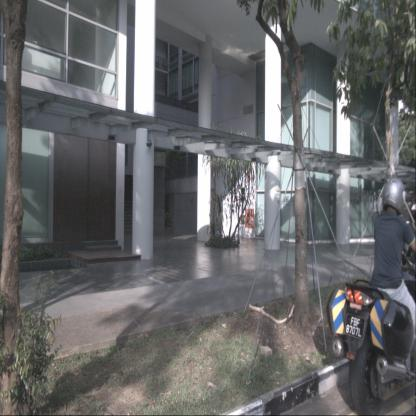vehicle-motorcycle: (326, 178, 416, 416)
